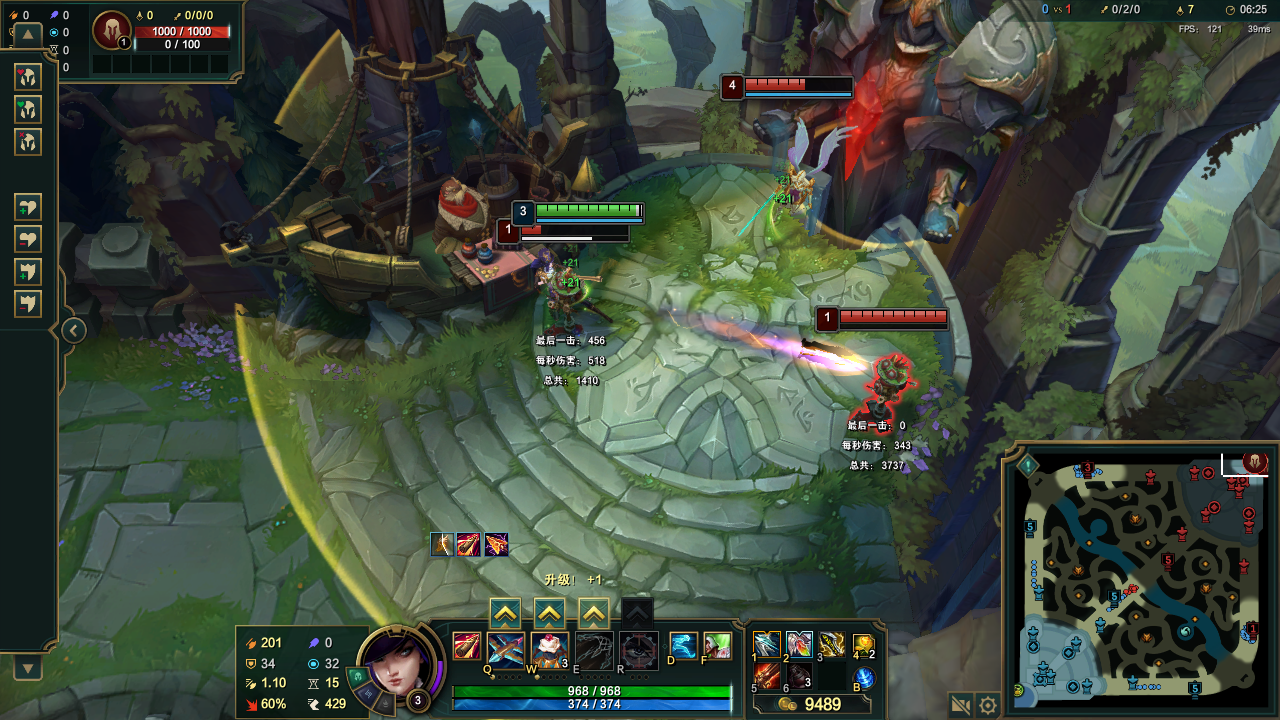DFYX: (743, 76, 859, 93), (839, 307, 955, 323), (517, 224, 633, 237)
